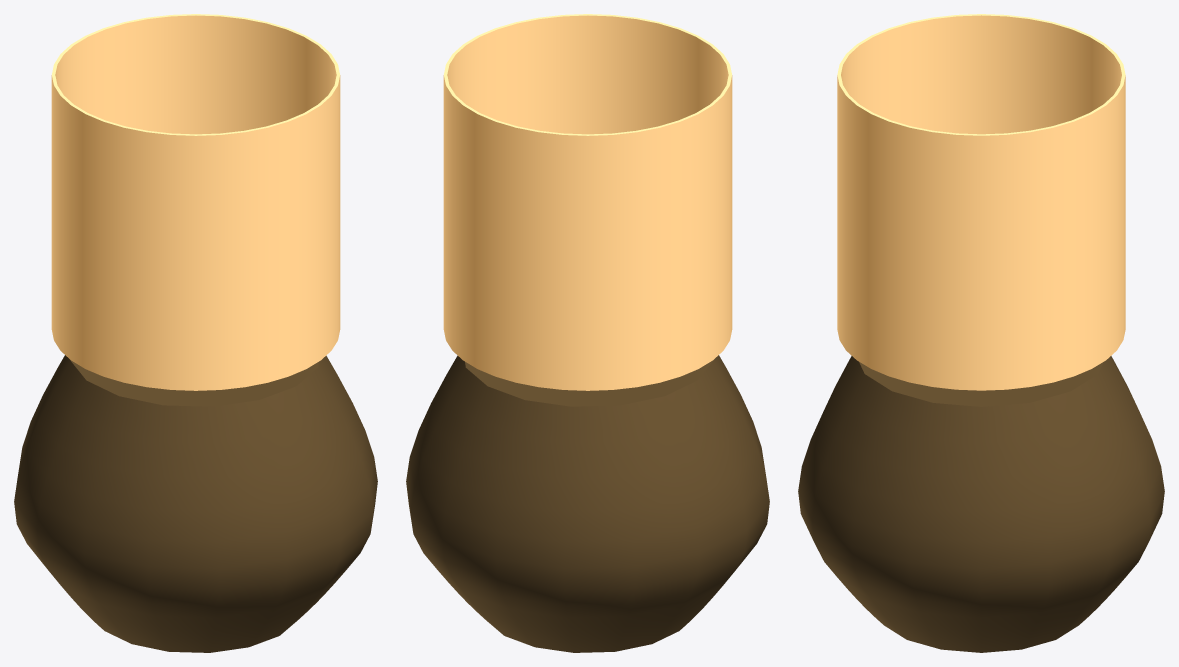
Rendered from Table_Lamp_AppleBase_RoundShade.fbx.
3 renders of one model, left to right at view 1: azimuth 30°, elevation 25°; view 2: azimuth 150°, elevation 25°; view 3: azimuth 270°, elevation 25°, orthographic.
Visible parts, largest first — view 1: Table_Lamp_AppleBase_RoundShade; view 2: Table_Lamp_AppleBase_RoundShade; view 3: Table_Lamp_AppleBase_RoundShade.
Boxes of the visible parts, x1,y1,x2,y2 form: Table_Lamp_AppleBase_RoundShade: [14, 14, 377, 652]; Table_Lamp_AppleBase_RoundShade: [406, 14, 769, 652]; Table_Lamp_AppleBase_RoundShade: [798, 14, 1164, 652].
Size of the model in its own units: 39.12 by 62.8 by 39.12.
